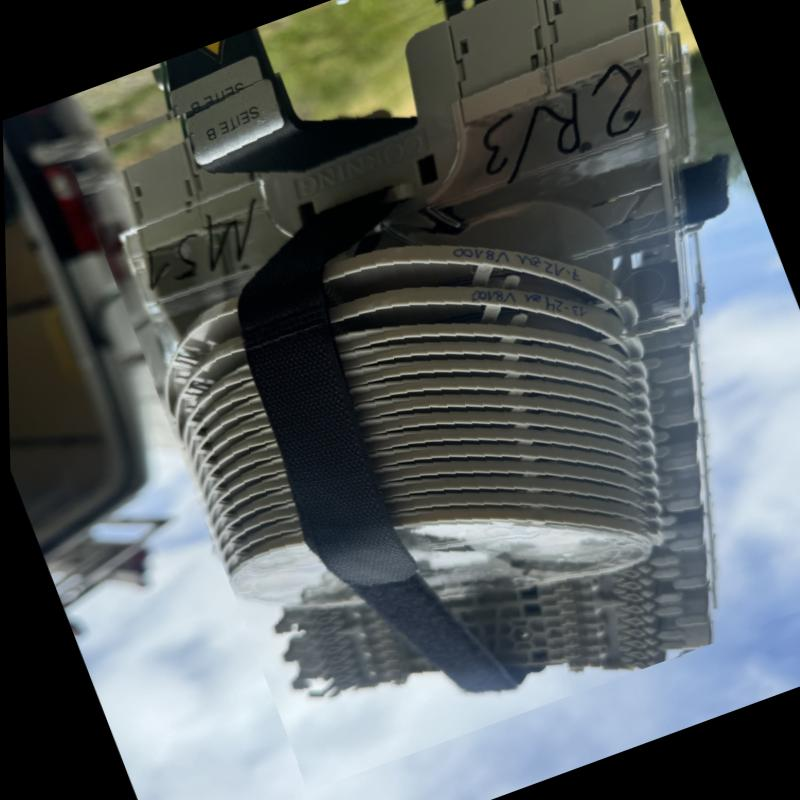NT-Muffen: (83, 0, 735, 704)
